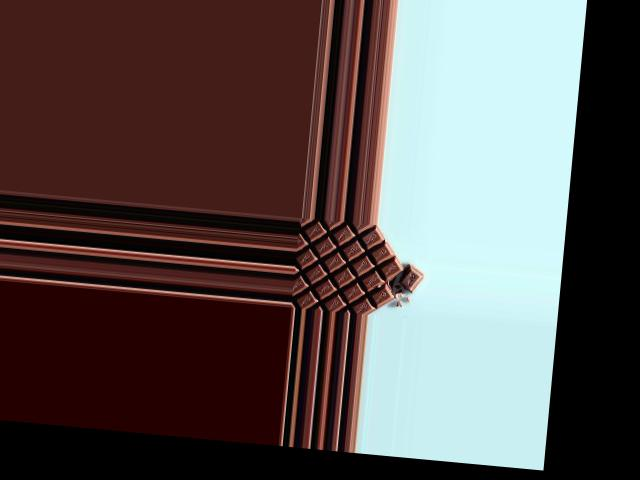chocolate: (290, 221, 414, 317)
